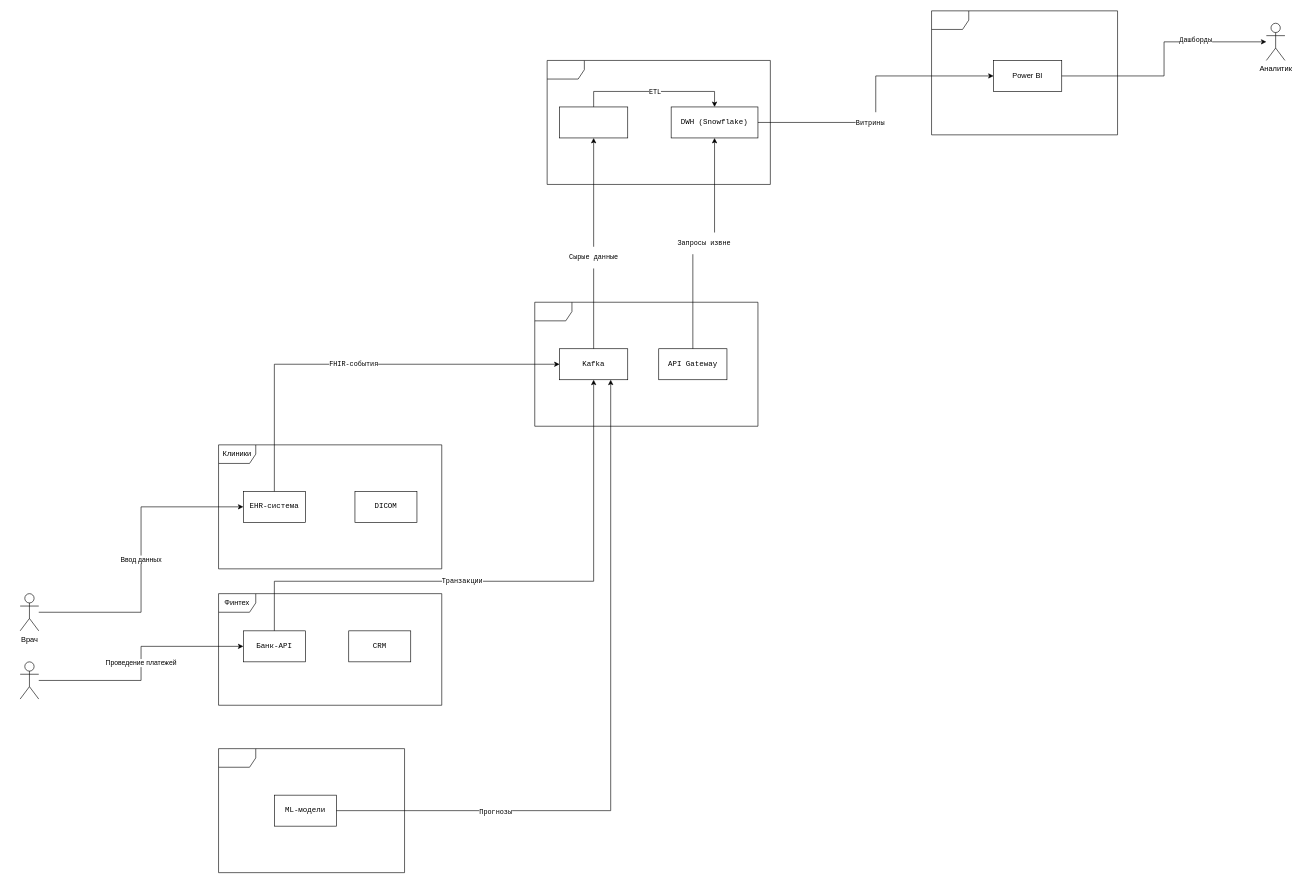
The diagram is 1303 pixels wide and 884 high, and some of its shapes have lost their labels. Each missing label, with the box of its shape:
Data Lake: (559, 106, 628, 138)
Аналитика: (931, 10, 1118, 135)
ИИ-сервисы: (218, 748, 405, 873)
Интерграция: (534, 302, 758, 426)
Финансист: (20, 661, 39, 699)
Хранилища: (547, 60, 770, 184)
